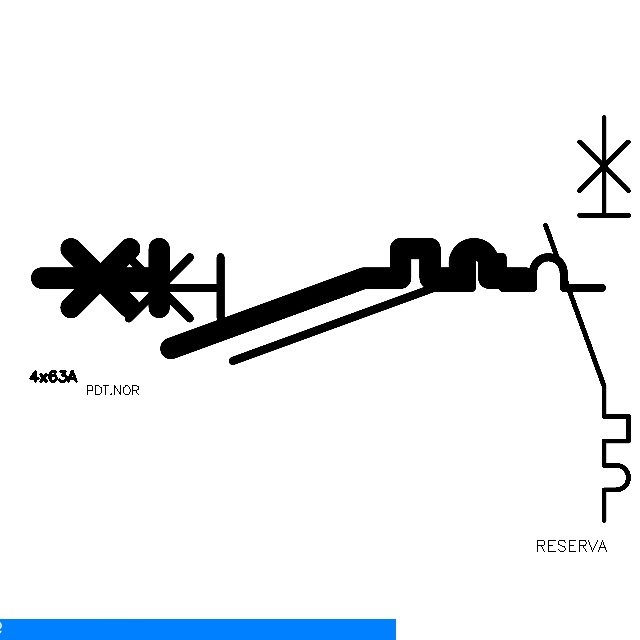interruptor_termomagnetico: (85, 244, 615, 374), (29, 236, 538, 360), (535, 107, 639, 531)
